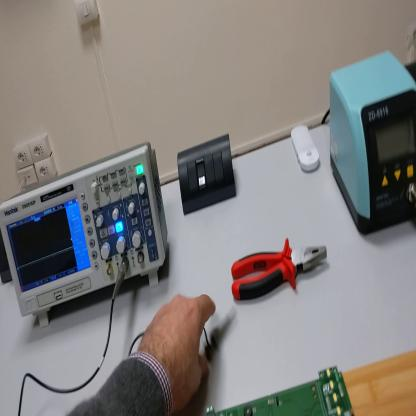hand: (137, 290, 216, 415)
low voltage board: (211, 365, 355, 414)
oscilloscope: (2, 139, 167, 328)
oscilloscope probe tip: (205, 309, 240, 362)
pliers: (233, 232, 332, 300)
socket: (3, 234, 12, 283), (405, 62, 415, 84)
welder station: (325, 45, 416, 237)
working area: (343, 352, 416, 415)
